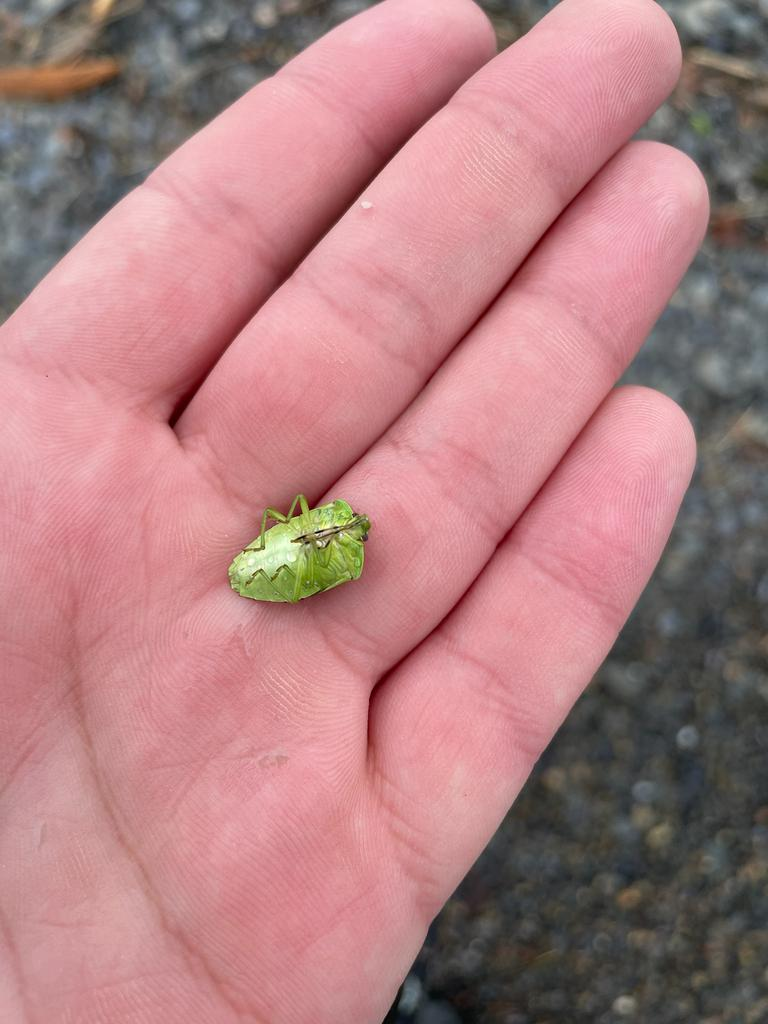stink_bugs: (192, 459, 415, 639)
